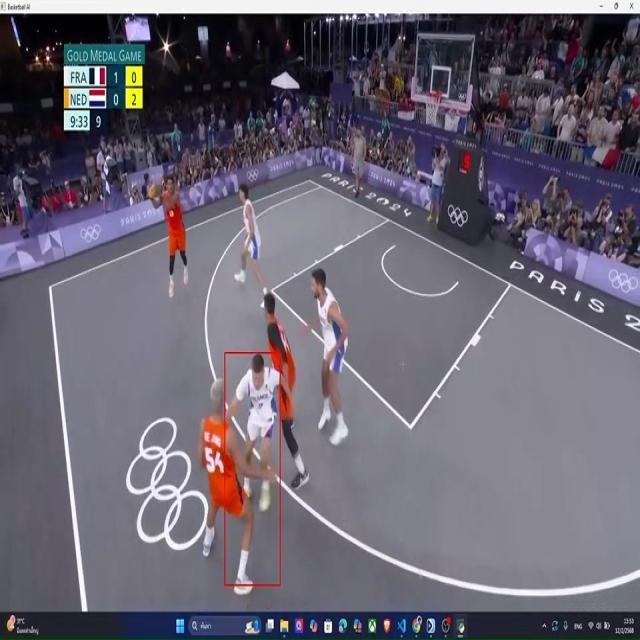basketball: (146, 180, 156, 202)
hoop: (424, 88, 441, 130)
